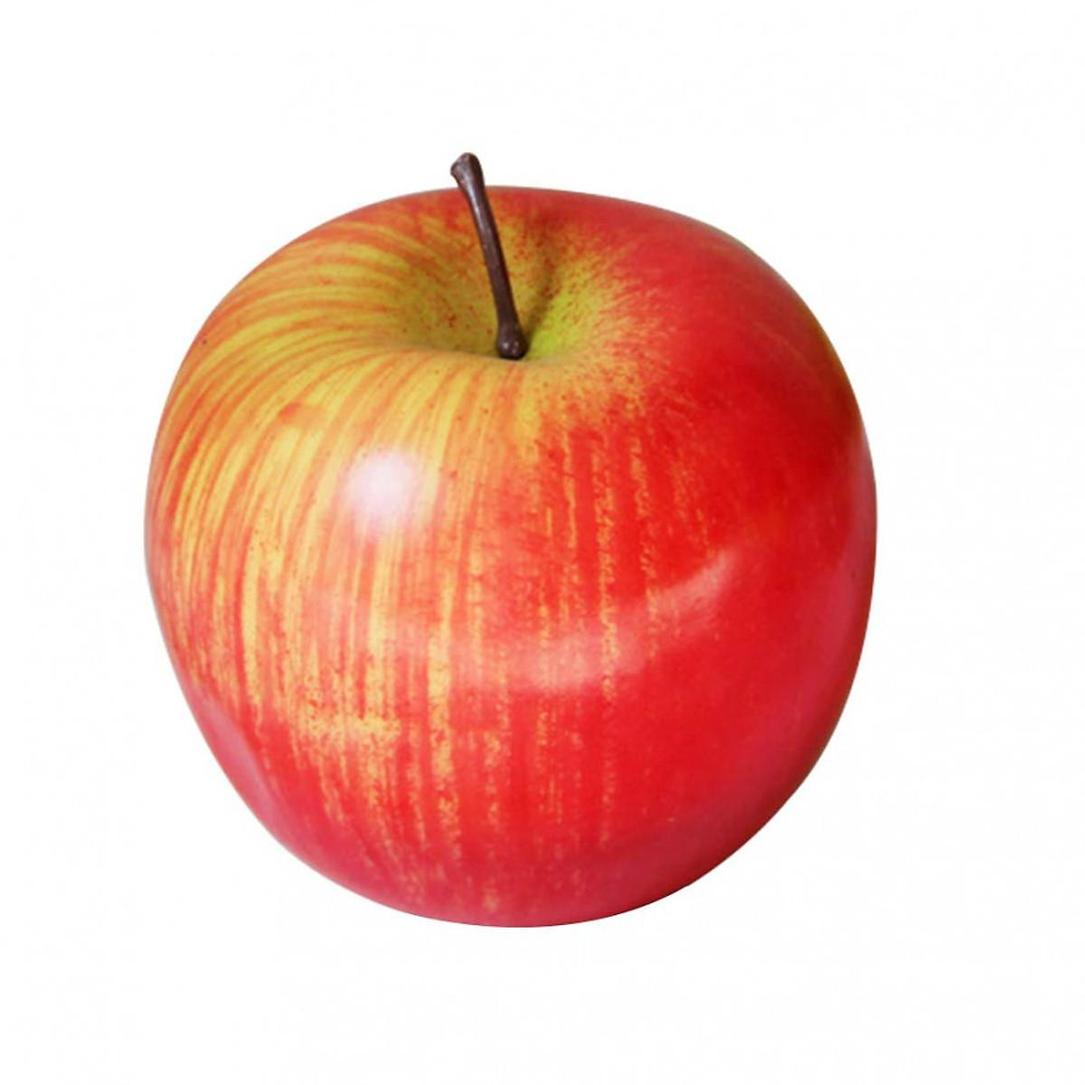apples: (137, 155, 881, 929)
